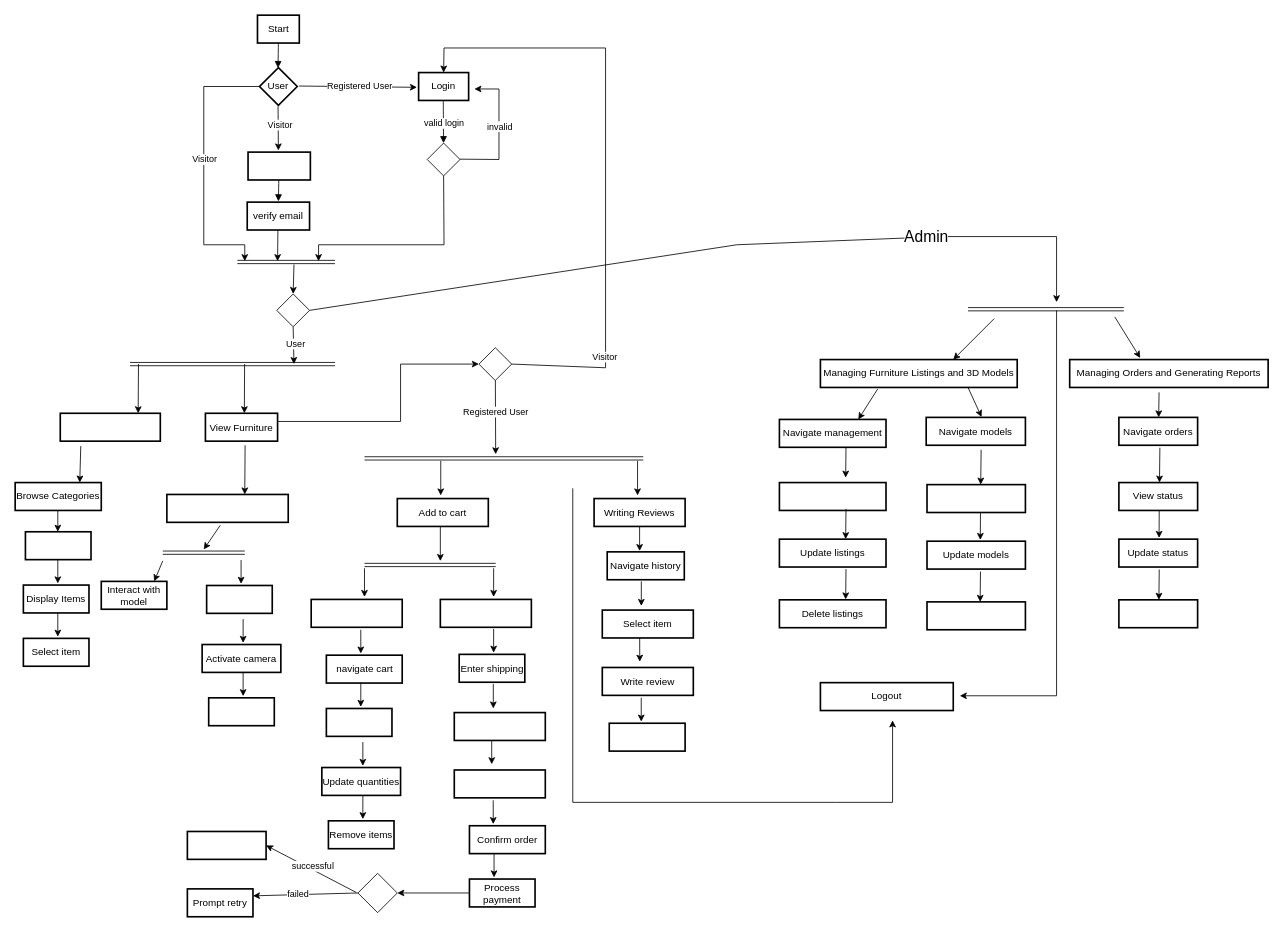
This 1282x932 diagram has some shape labels left out. The shapes that lost their labels are listed below. From the top down, each one's box as (x1, y1, x2, y2) in pixels, then its label:
(247, 151, 311, 180): Register
(59, 412, 161, 442): Searching & Filtering
(166, 493, 289, 523): 3d models & AR preview
(778, 481, 886, 511): Add listings
(926, 483, 1026, 513): Add models
(24, 531, 91, 560): Enter criteria
(205, 584, 273, 614): Select AR
(310, 598, 403, 628): Viewing and Updating Cart
(439, 598, 532, 628): Proceed to Checkout
(926, 601, 1026, 630): Delete models
(1118, 599, 1198, 628): Generate reports
(207, 697, 275, 726): Augment model
(325, 707, 392, 737): view items
(453, 711, 546, 741): Payment Information
(608, 722, 686, 752): Submit review
(453, 769, 546, 798): Place Order
(186, 830, 266, 860): Generate confirmation
